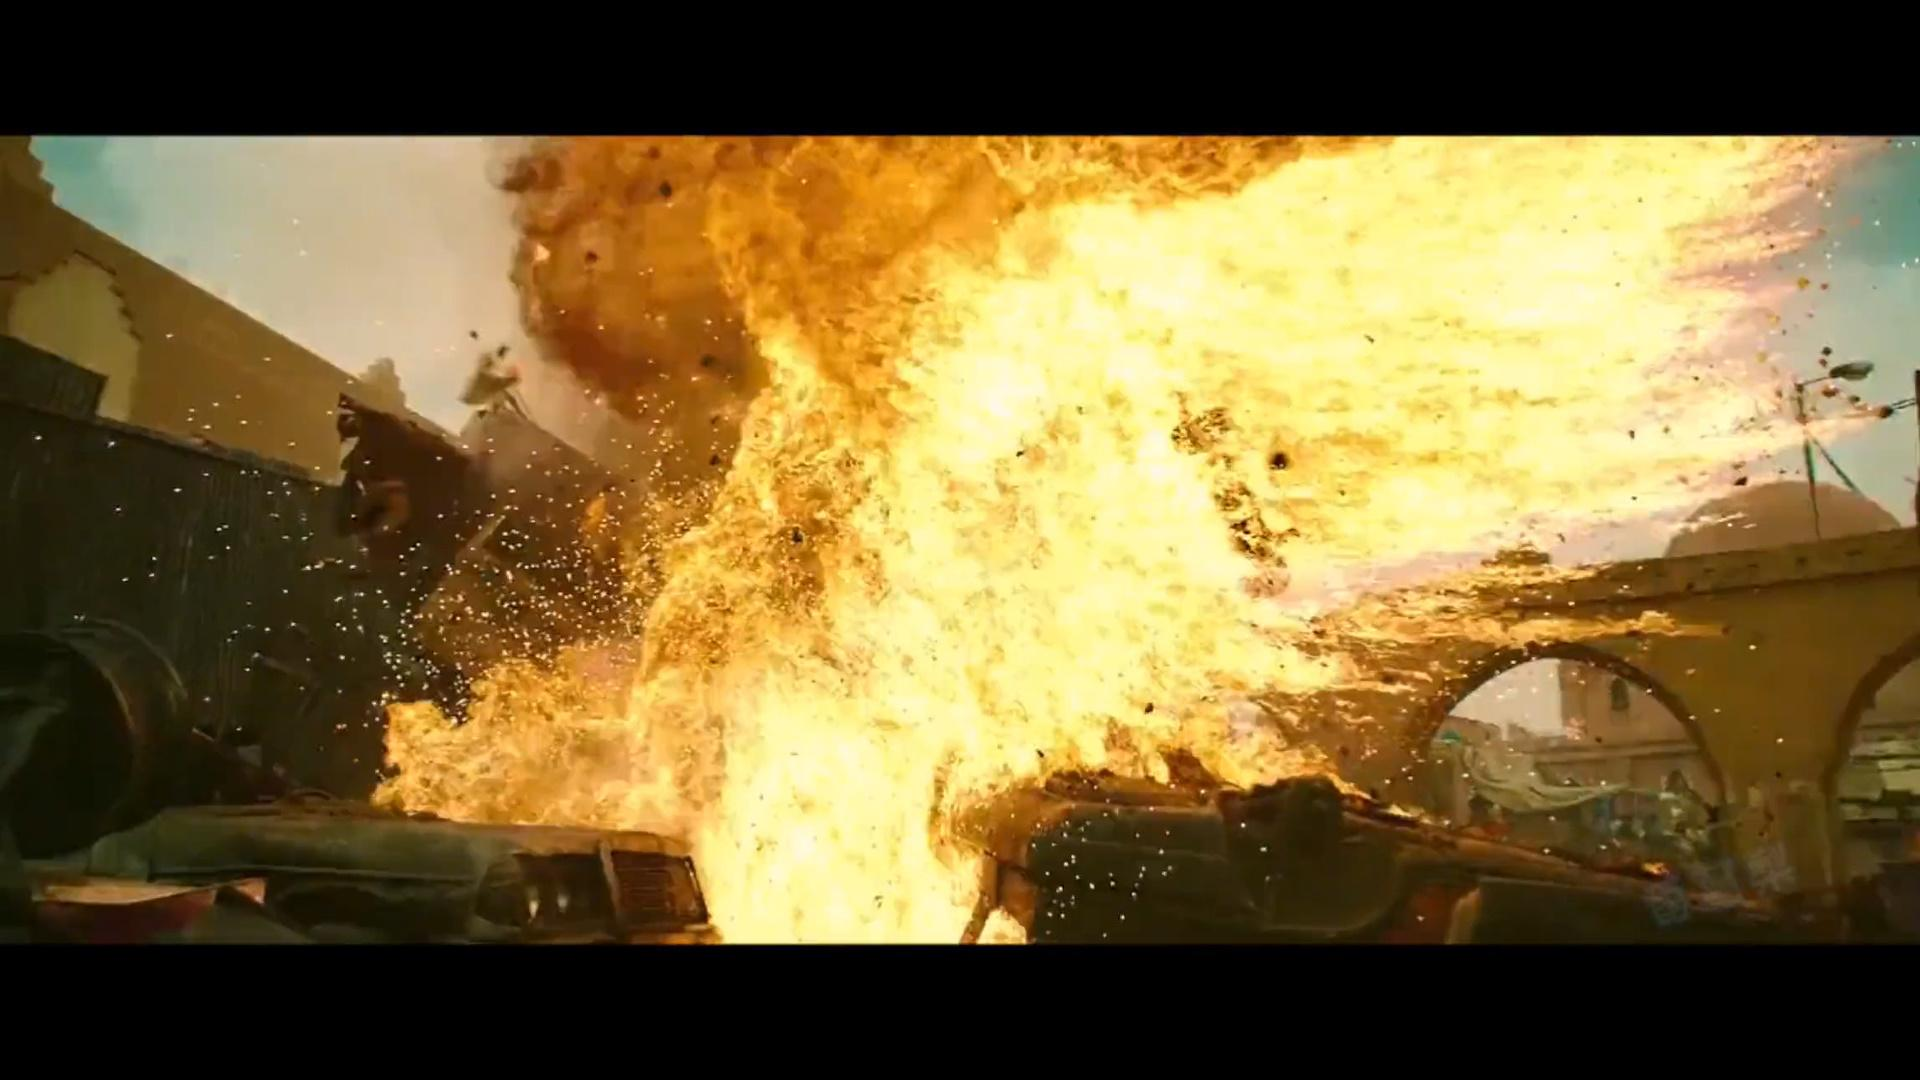fire: (356, 140, 1919, 934)
